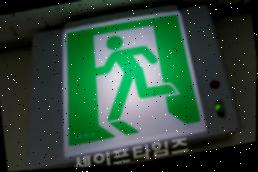emergency_exit: (60, 9, 209, 158)
